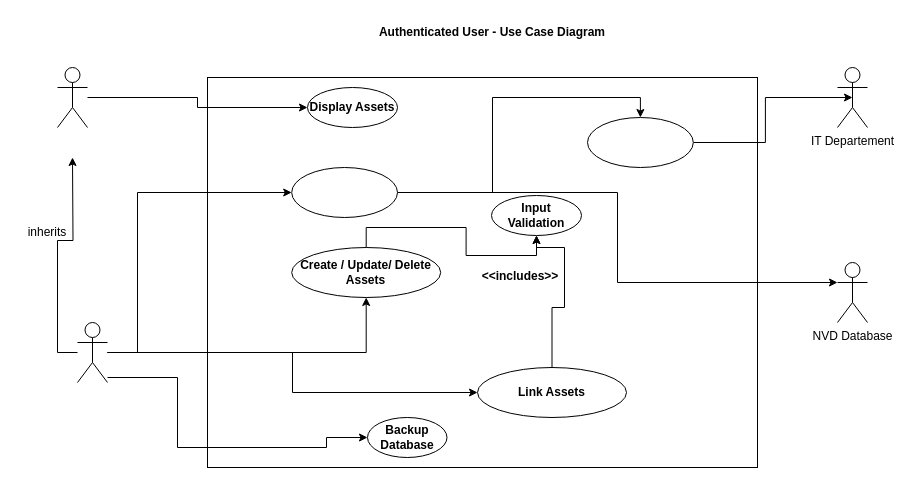
Image size: 911x485. Some labels were removed from this diagram. The shapes that lost their labels are listed below. From the top down, each one's box as (x1, y1, x2, y2) in pixels, then its label:
(56, 66, 88, 128): report-only-user
(586, 116, 693, 168): Alert IT
(291, 166, 398, 218): Search for vulnerabilities
(76, 322, 108, 382): all-access-user
